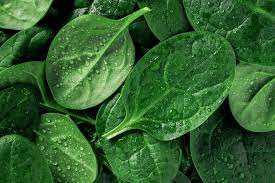spinach: (7, 11, 260, 175)
